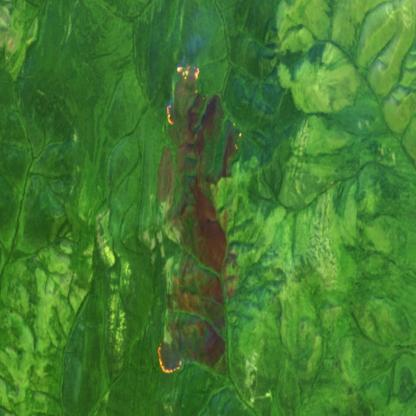fire: (164, 62, 202, 127), (149, 343, 189, 378), (231, 121, 244, 150)
